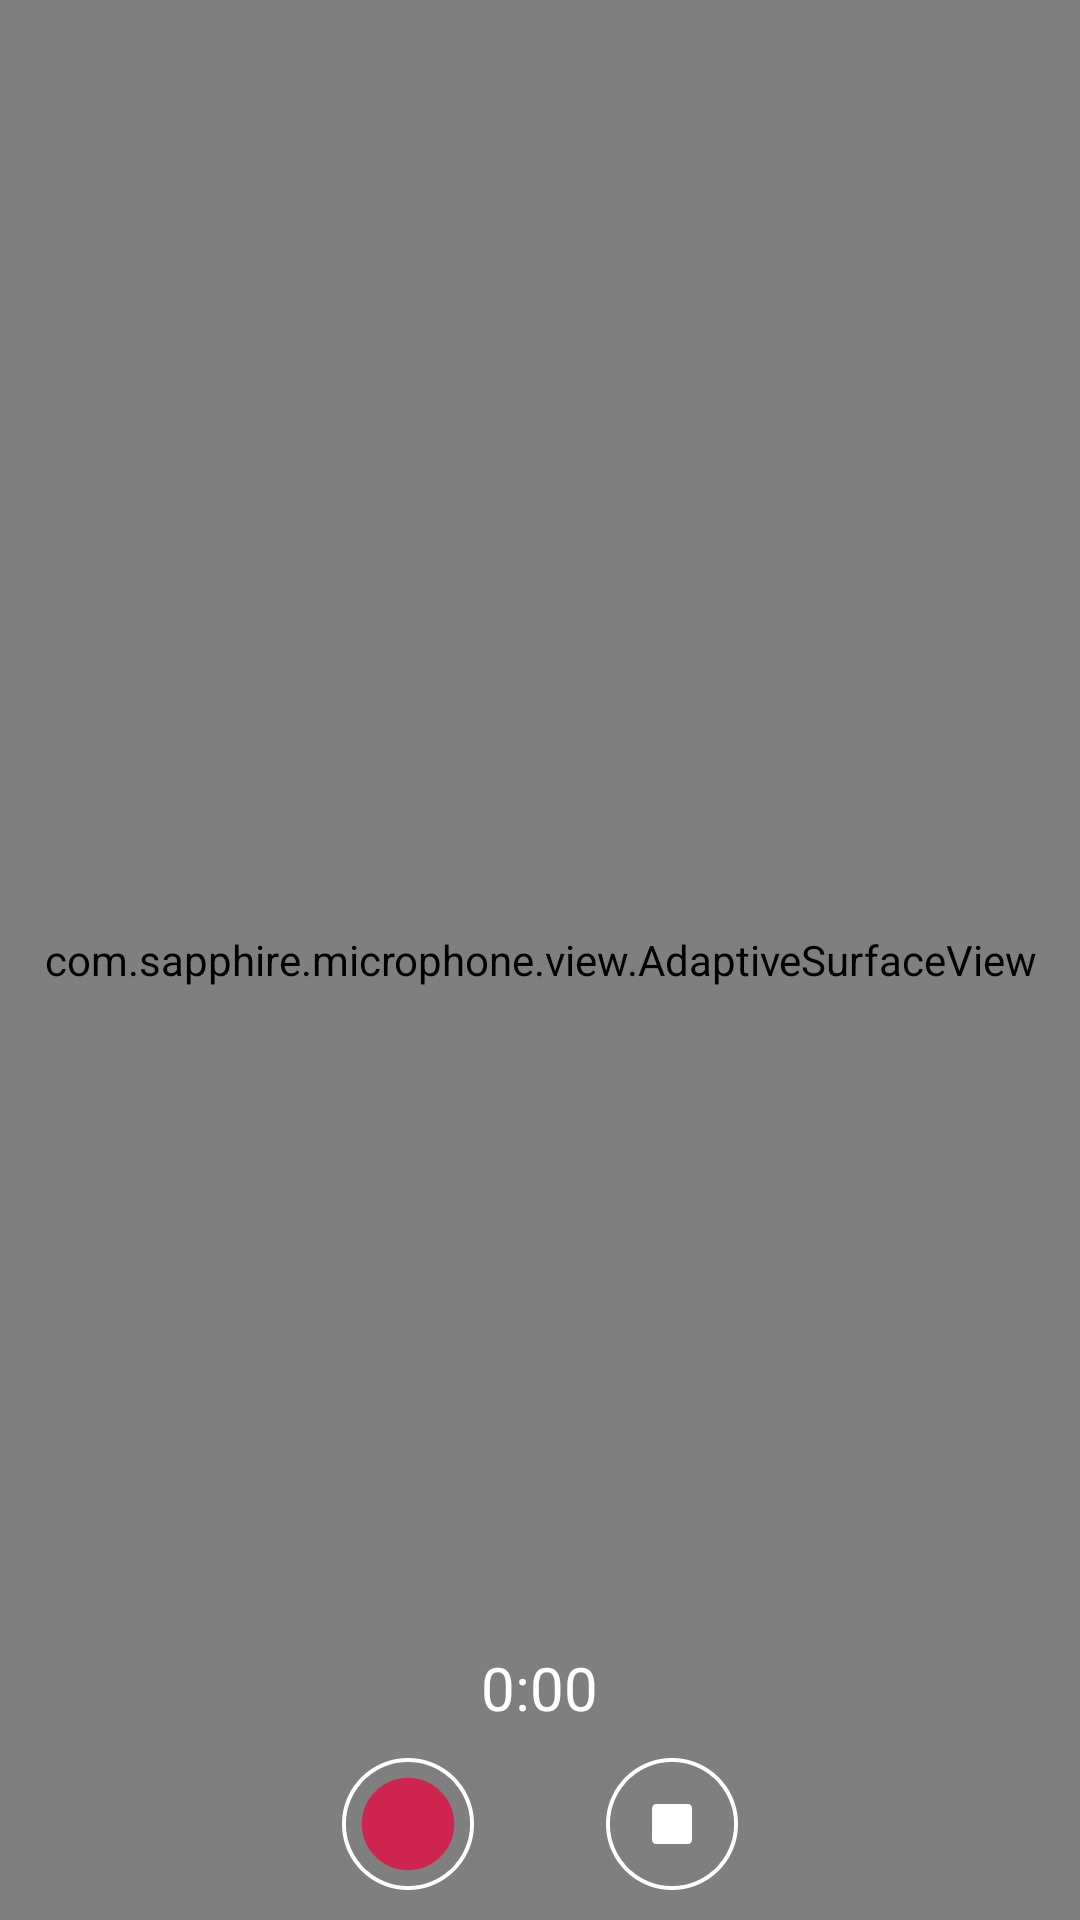

Icons on this 1080px x 1920px Android screen, each with the point to tap as (x,y):
record: (408,1824)
stop: (672,1824)
